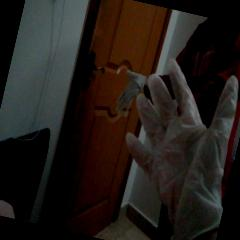gloved: (103, 54, 239, 239), (114, 66, 146, 118)
